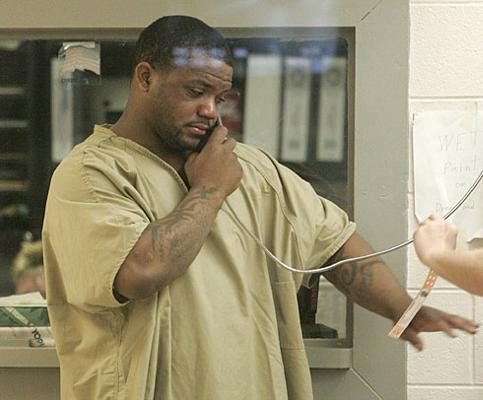person: (40, 15, 477, 396)
